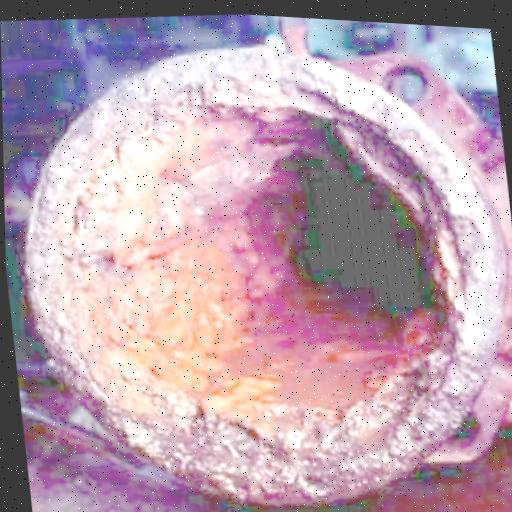corrosion: (3, 10, 512, 512)
